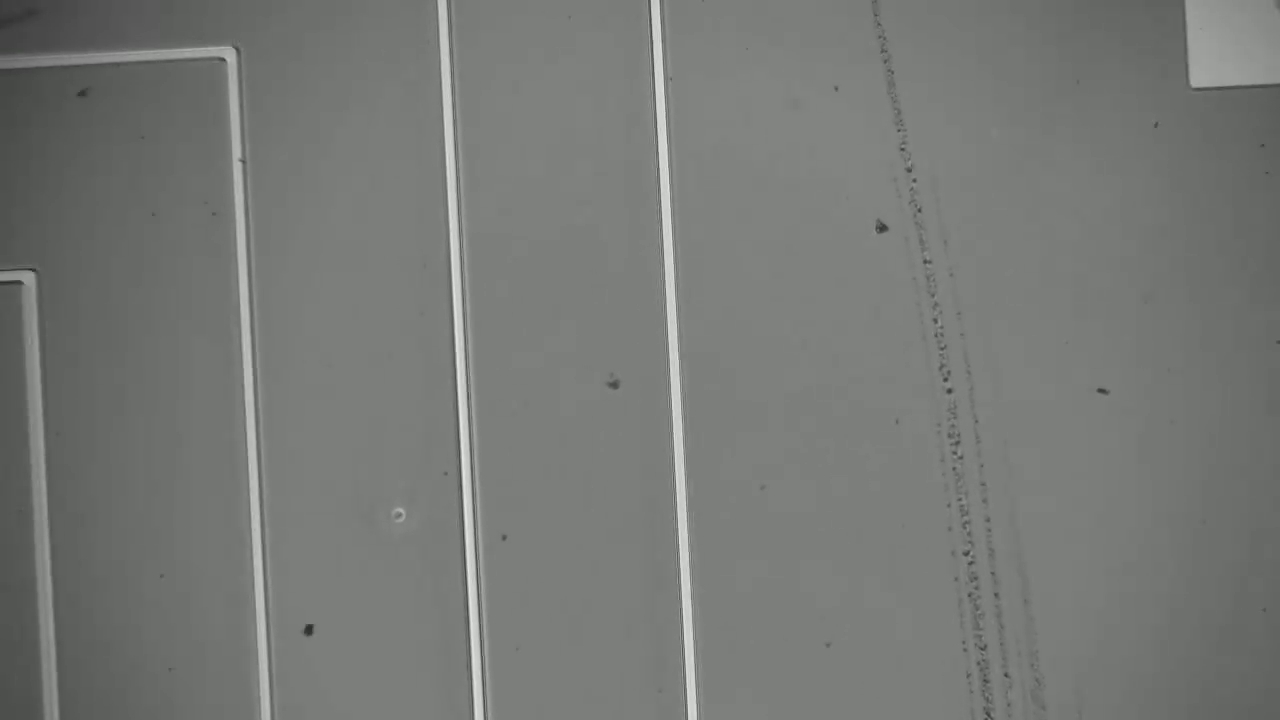scratch: (868, 2, 1069, 718)
